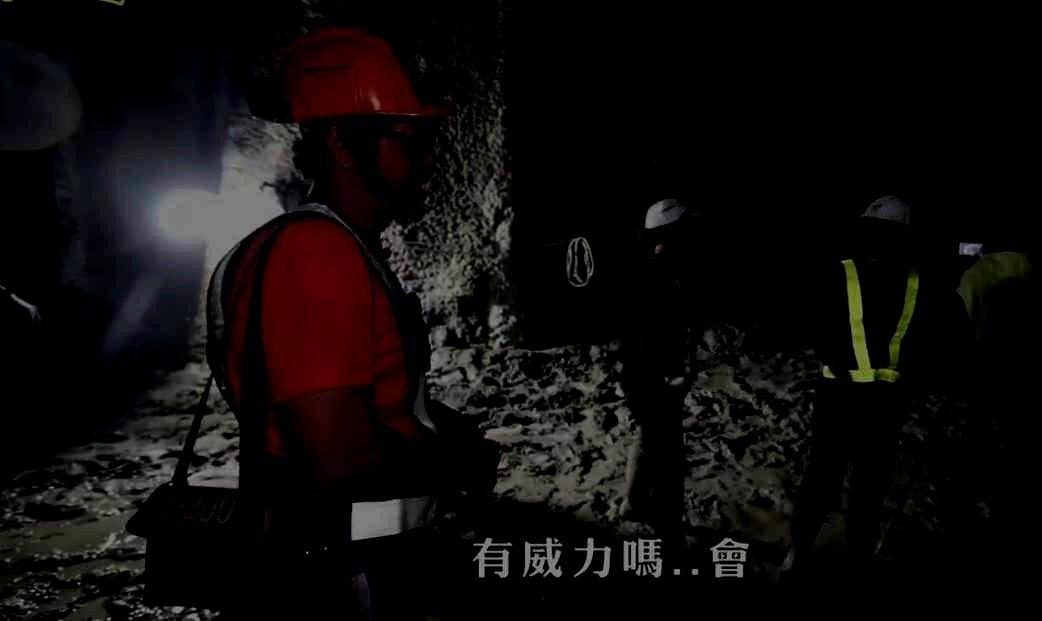helmet: (281, 28, 434, 220), (860, 195, 911, 227), (643, 198, 686, 228)
